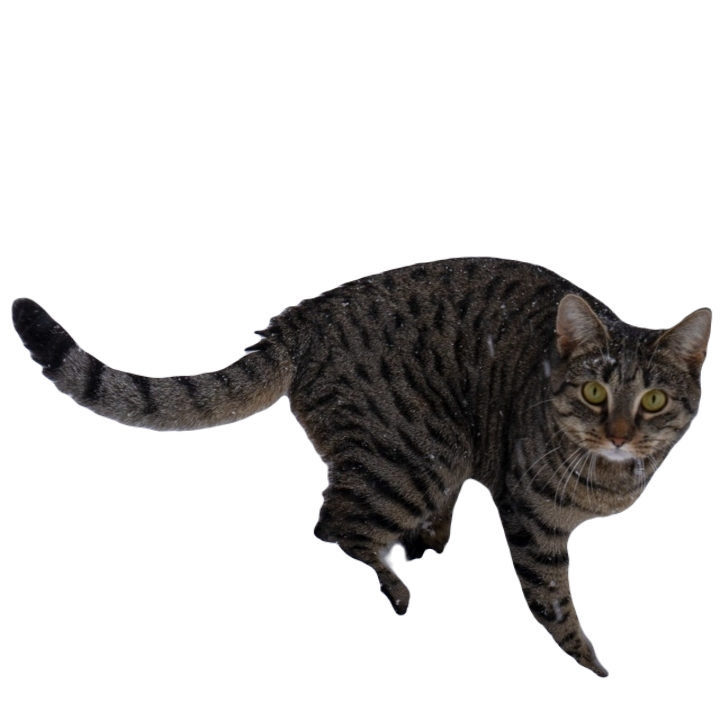Cat: (9, 247, 719, 680)
